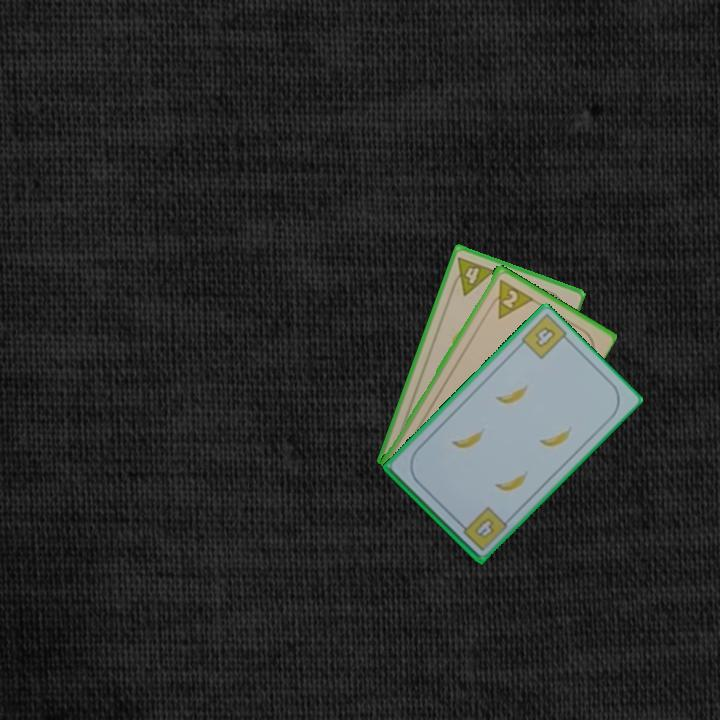2p: (485, 275, 535, 321)
4b: (454, 503, 510, 554), (531, 323, 559, 350)
4p: (447, 254, 497, 298)
